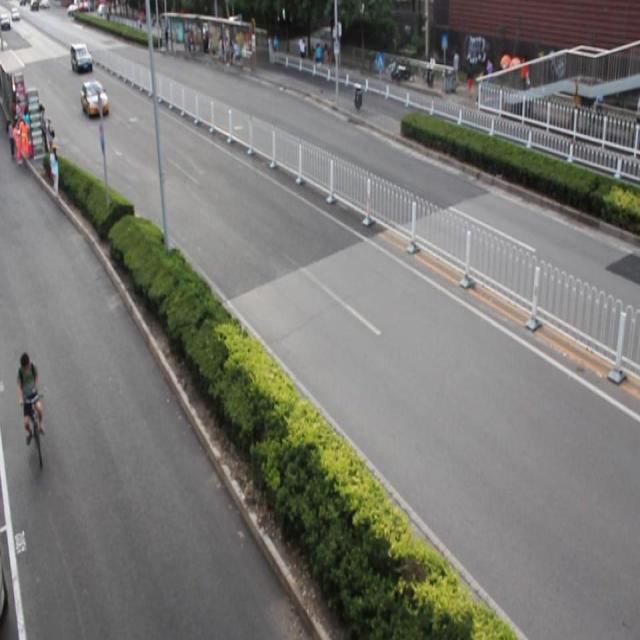car: (82, 80, 108, 114)
